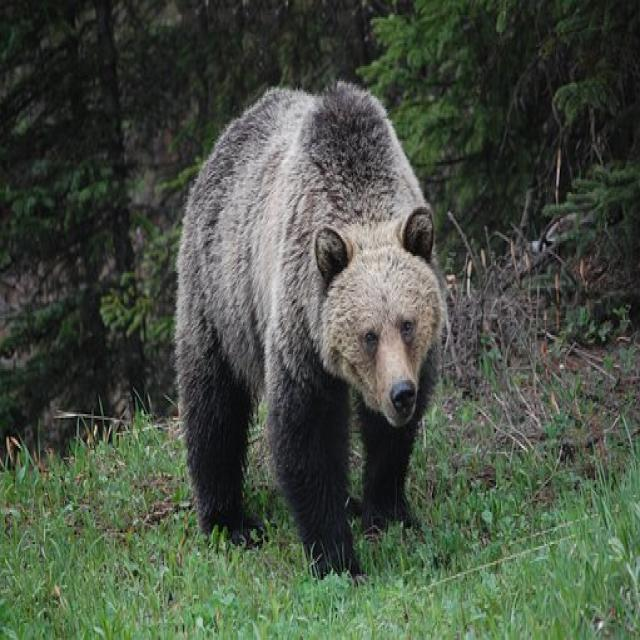Bear: (174, 83, 450, 584)
